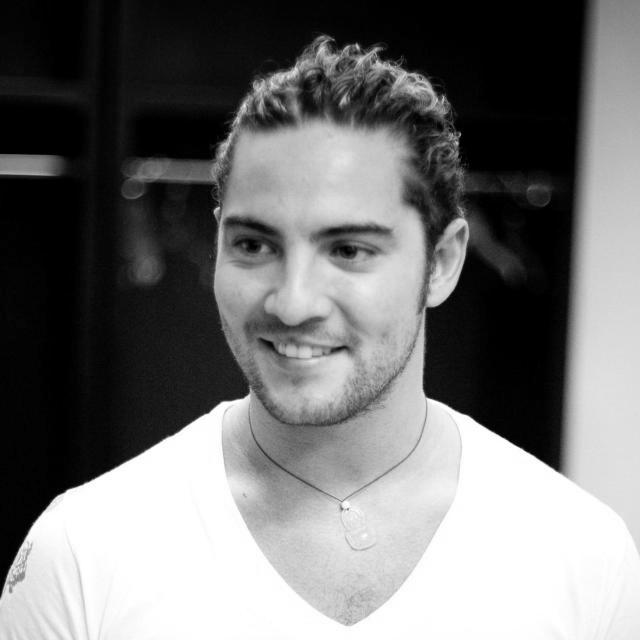real: (211, 130, 432, 432), (222, 198, 397, 286)
